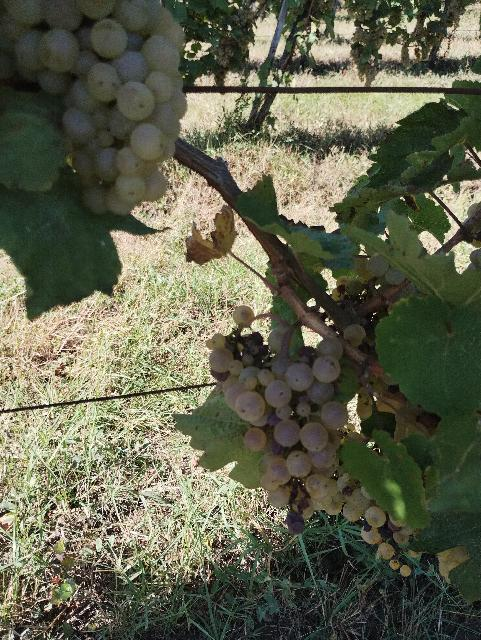grapes: (0, 0, 188, 215), (209, 306, 349, 531)
